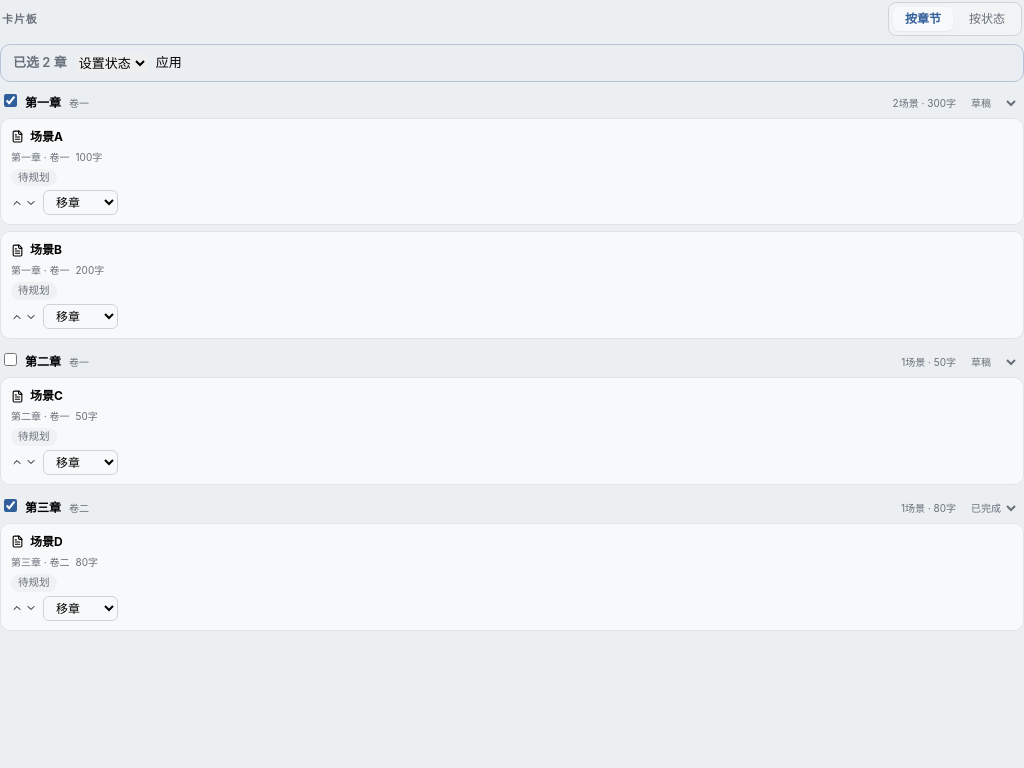
Test: CardBoard 编辑能力 › 批量状态：命令返回 false 时对话框保留并显示错误
The image size is (1024, 768).
Select "已完成" in the dropdown named "批量状态" at (111, 63), box left=75, top=54, right=148, bottom=72
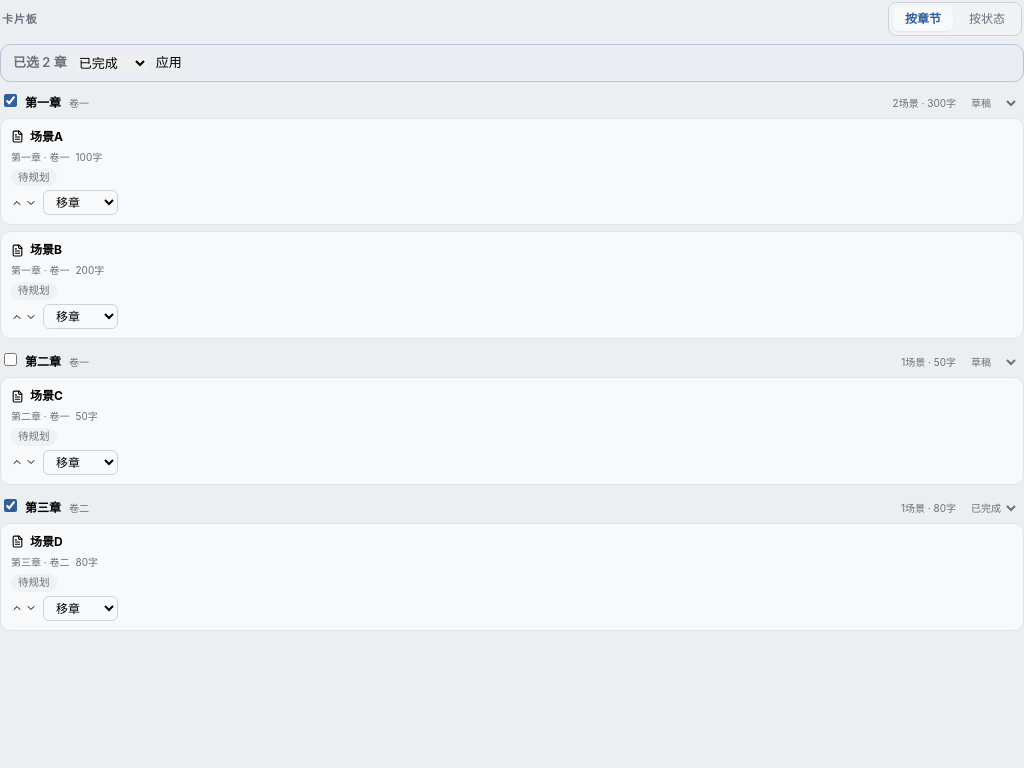
Click the button "应用" at (169, 63), box left=156, top=53, right=182, bottom=72
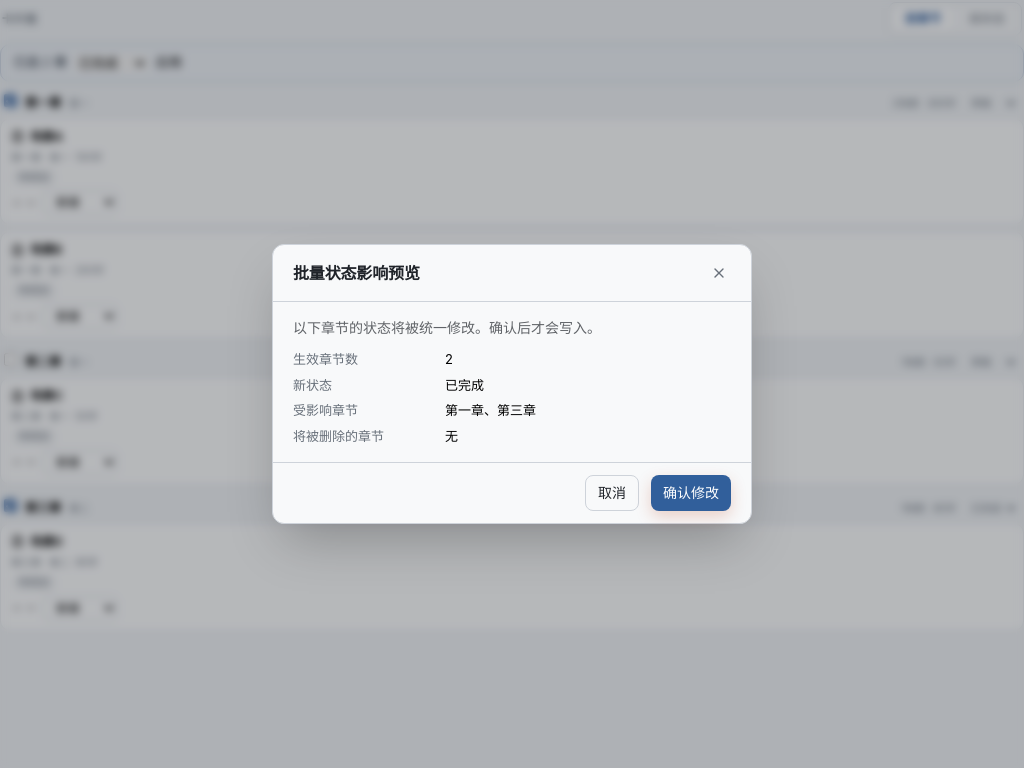
Click the button "确认修改" at (691, 493), box left=651, top=475, right=731, bottom=511
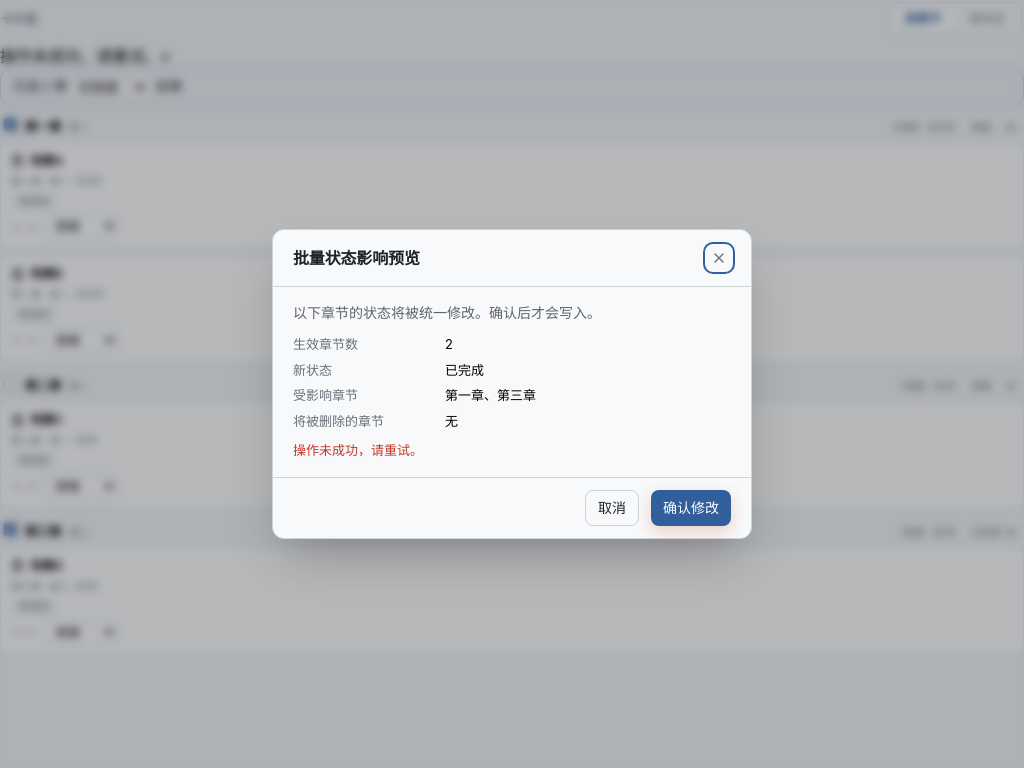
Result: the dialog is shown
Result: the text "操作未成功，请重试。" is shown at left=0, top=46, right=160, bottom=66
